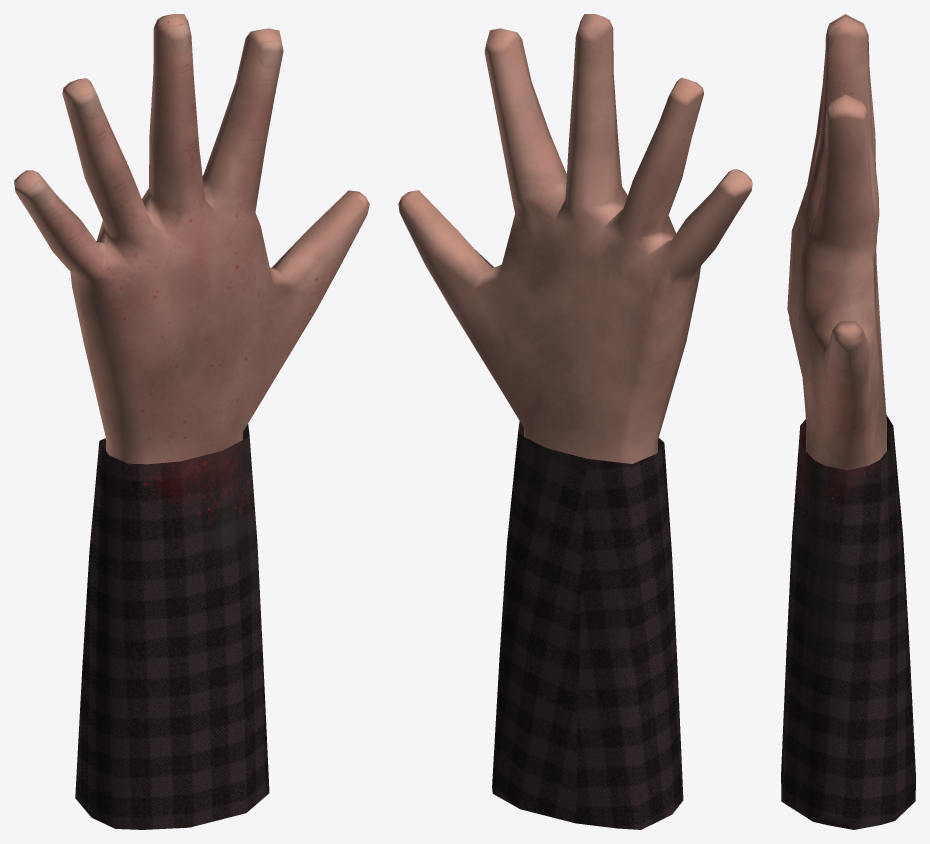
File: Mano_Base.fbx
The picture shows the model from 3 angles, left to right: view 1: azimuth 30°, elevation 25°; view 2: azimuth 150°, elevation 25°; view 3: azimuth 270°, elevation 25°; orthographic projection. The views are drawn at different scales.
Parts seen in each view (by area): view 1: HAND; view 2: HAND; view 3: HAND.
Boxes of the visible parts, x1,y1,x2,y2 form: HAND: (14, 14, 369, 829); HAND: (398, 14, 752, 829); HAND: (781, 14, 915, 829).
Bounding box in the file's own units: 21.05 × 44.81 × 7.14.
